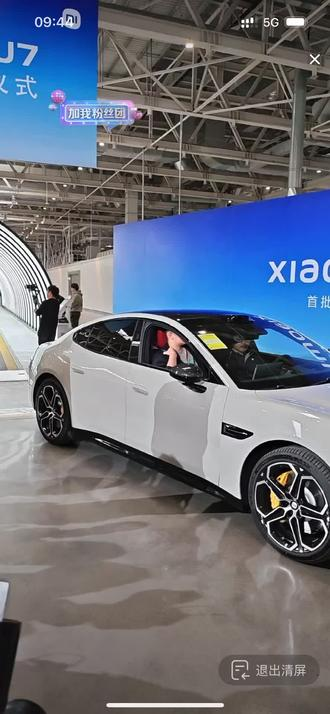su7: (28, 311, 330, 563)
